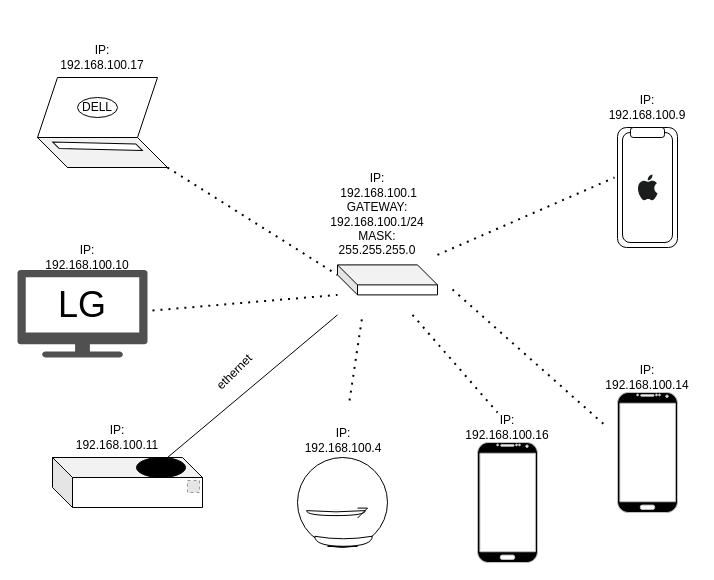
This 714x580 diagram has some shape labels left out. Grey dashed boxes stand in for pictures. The shapes that lost their labels are listed below. From the top down, each one's centre as x and y in pixels, then its label:
At [387,279]: "ROUTER".
At [342,502]: "ALEXA".
